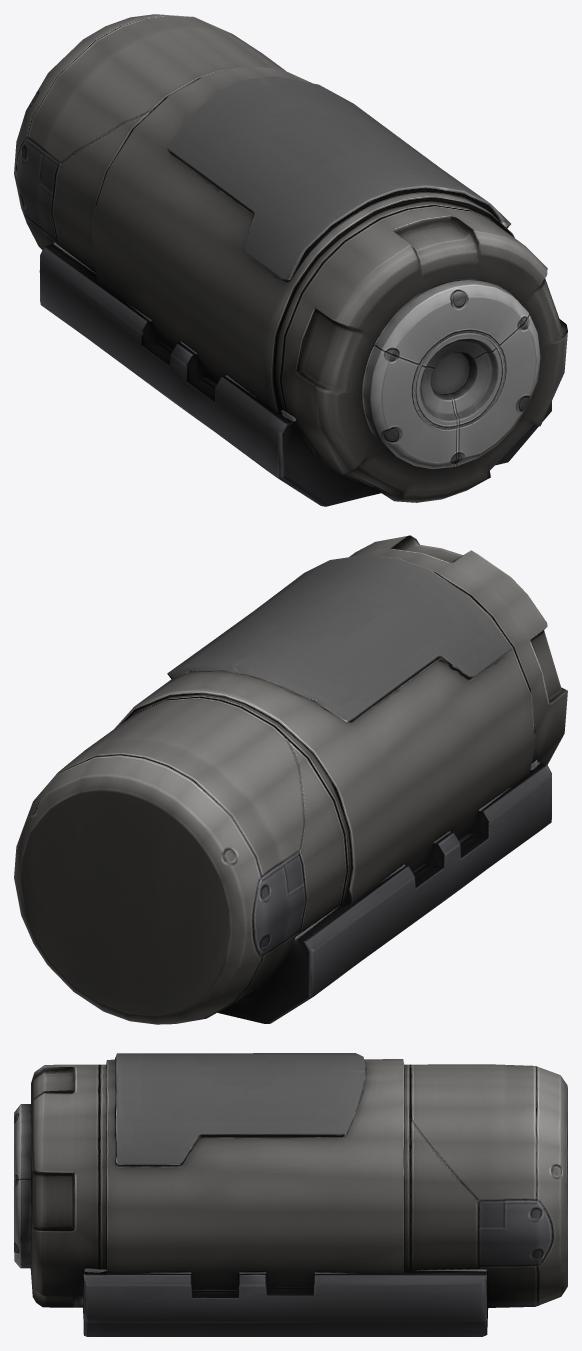
Rendered from Generator.fbx.
3 views of the same model, one above another, from view 1: azimuth 30°, elevation 25°; view 2: azimuth 150°, elevation 25°; view 3: azimuth 270°, elevation 25° (orthographic). The views are drawn at different scales.
Parts seen in each view (by area): view 1: lowgen:polySurface1; view 2: lowgen:polySurface1; view 3: lowgen:polySurface1.
Boxes of the visible parts, left/top/right/bottom form: lowgen:polySurface1: left=14, top=14, right=567, bottom=506; lowgen:polySurface1: left=14, top=535, right=567, bottom=1024; lowgen:polySurface1: left=14, top=1053, right=567, bottom=1336.
Size of the model in its own units: 388 by 380 by 818.
